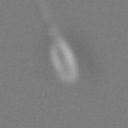normal: (34, 1, 62, 39)
